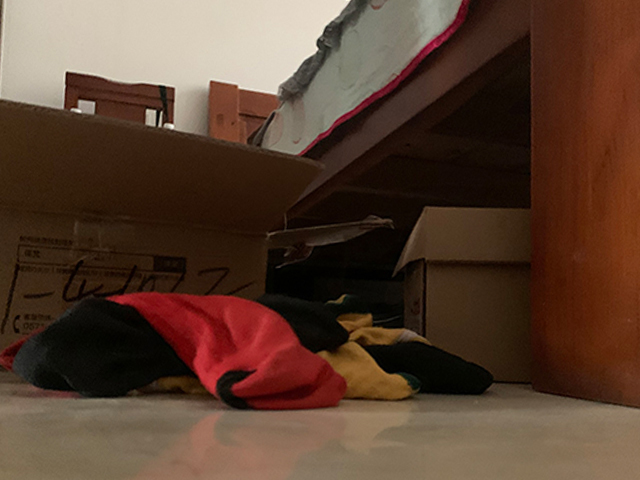bed: (208, 1, 639, 410)
socks: (1, 289, 494, 412)
